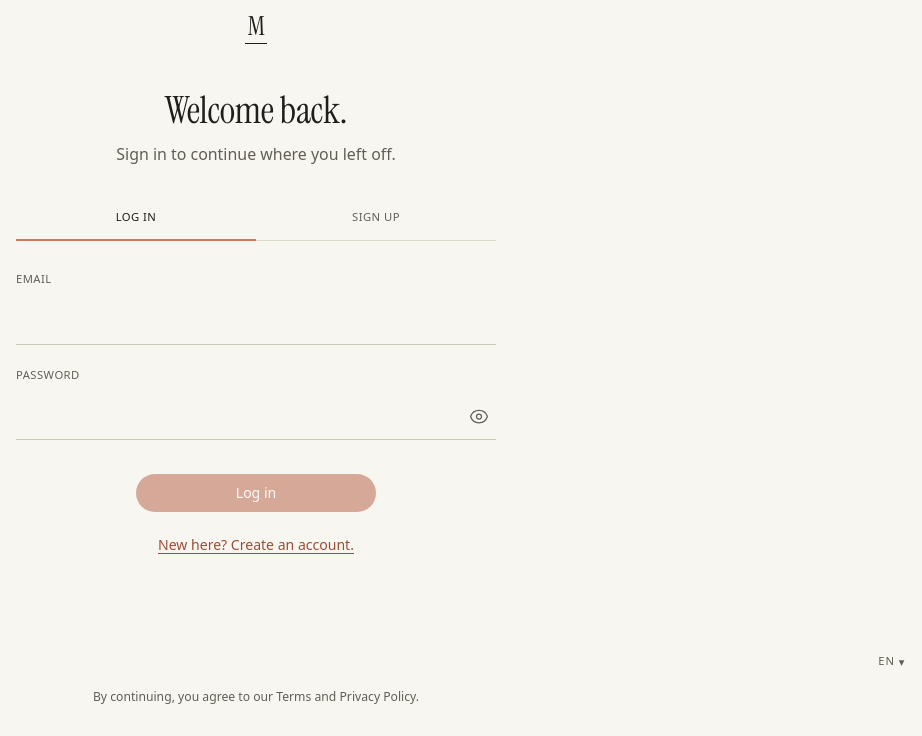
AuthComponent › switches to signup via rail tab and shows the name field
This screenshot has width=922, height=736.
Click the tab "SIGN UP". click: (376, 219)
box: [256,197,496,240]
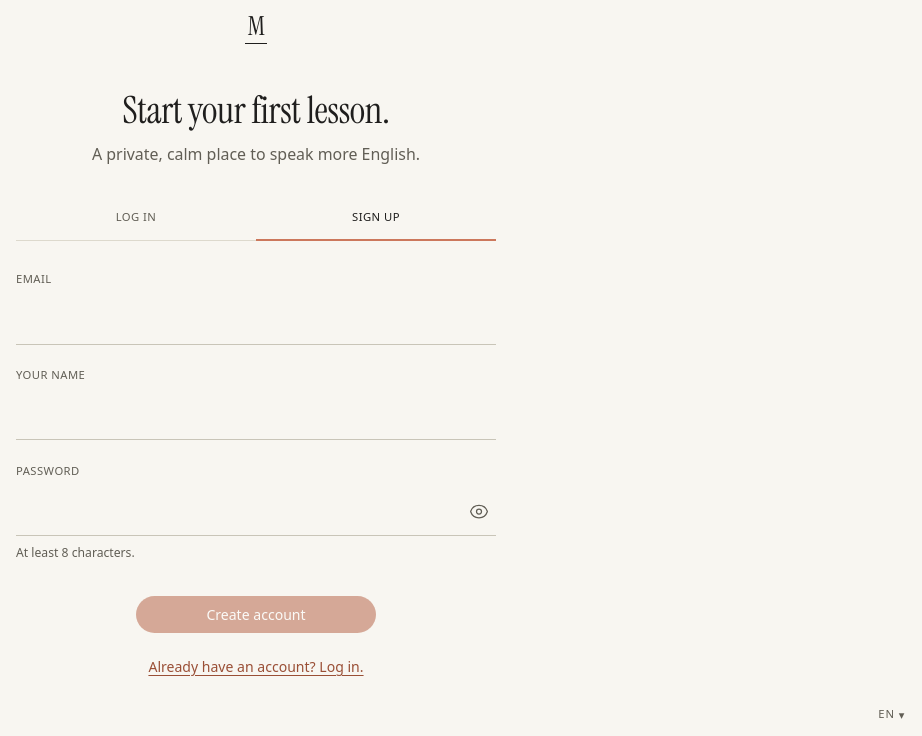
Now the text "Start your first lesson." is shown, box [122,86,390,135]
Now the field named "name" is shown, box [16,392,496,440]
